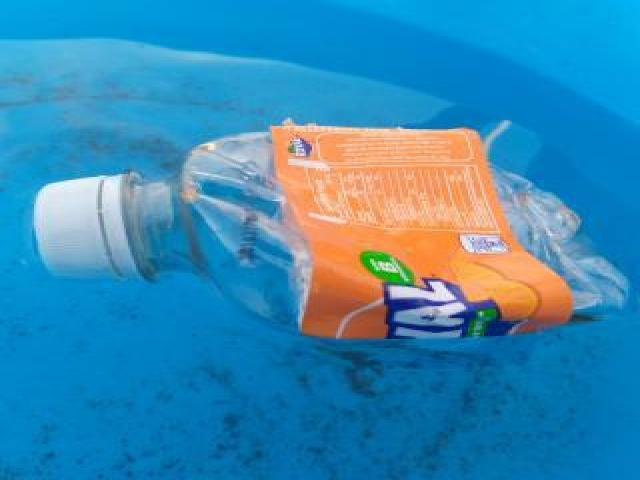Bottle: (21, 110, 639, 348)
